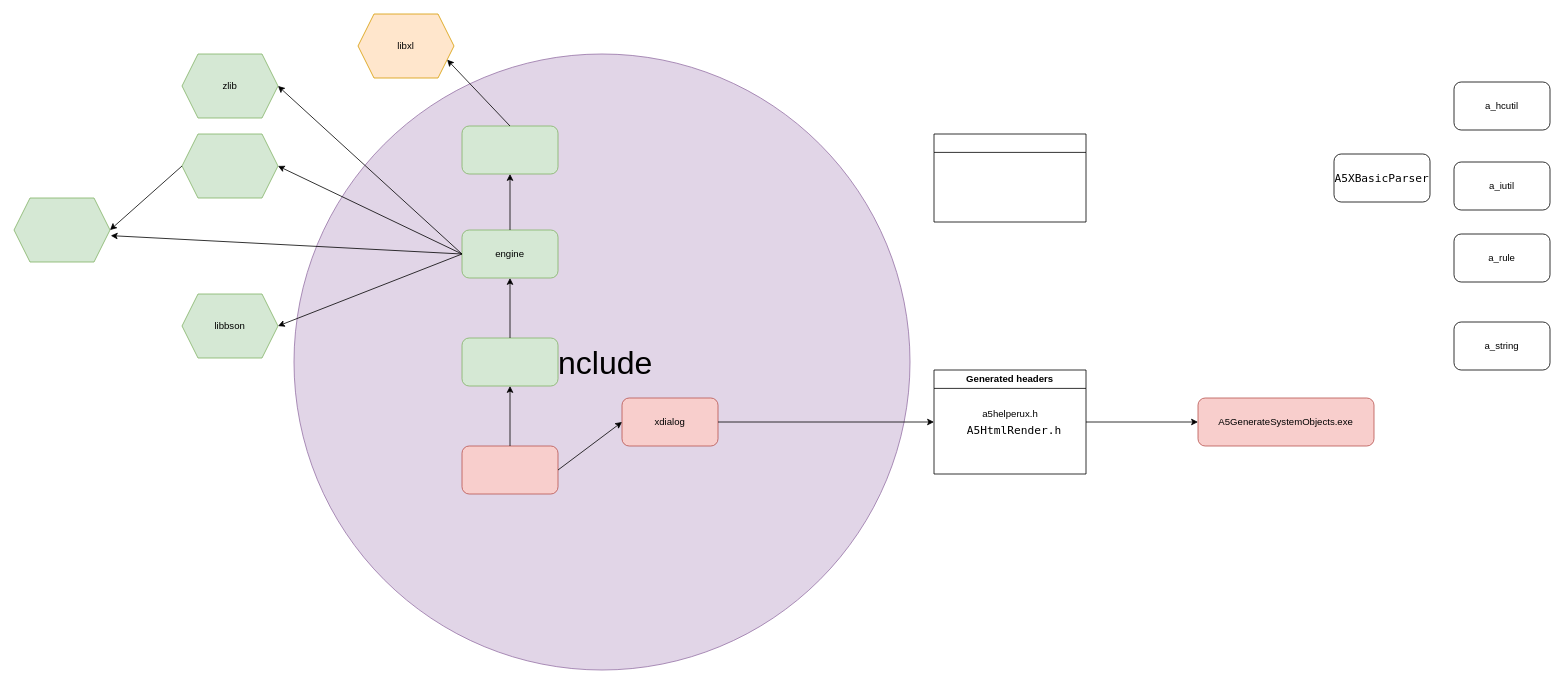
Some shapes in this 1564 by 684 pixel diagram are drawn without their labels. The centre of each missing label's shape, as x and y in pixels:
"a5_uxhost" belongs at point 509,361.
"a_dbsess" belongs at point 509,149.
"boost" belongs at point 61,229.
"cpp-netlib" belongs at point 229,165.
"IDL Generated files" belongs at point 1009,177.
"xbasic" belongs at point 509,469.
